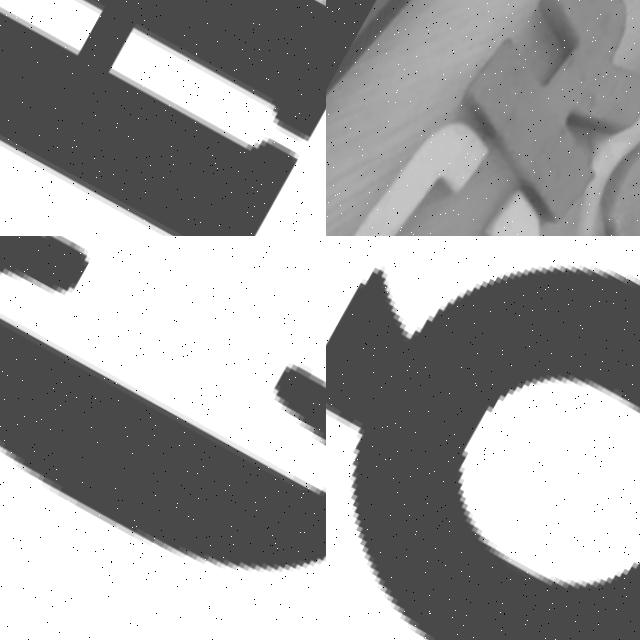C: (0, 310, 326, 568), (326, 118, 566, 236)
K: (435, 0, 640, 222)
Q: (326, 236, 640, 640)
